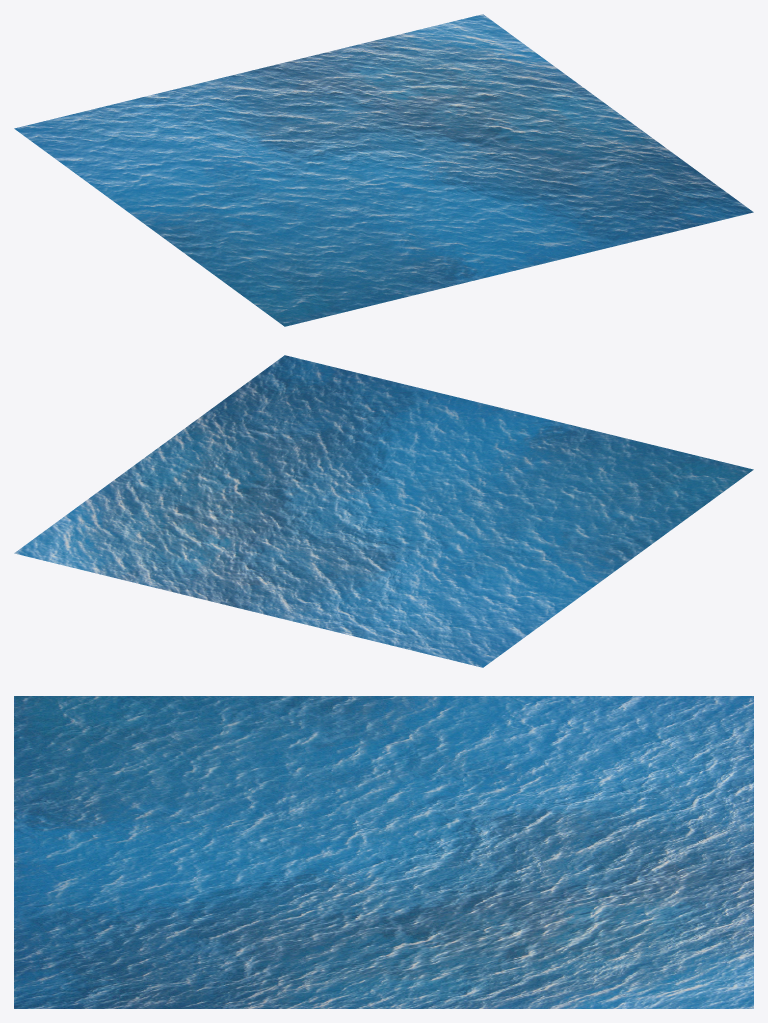
Rendered from water.obj.
3 views of the same model, one above another, from view 1: azimuth 30°, elevation 25°; view 2: azimuth 150°, elevation 25°; view 3: azimuth 270°, elevation 25° (orthographic). The views are drawn at different scales.
Visible parts, largest first — view 1: Plane001; view 2: Plane001; view 3: Plane001.
Part boxes in pixels (x1,y1,x2,y2): Plane001: (14,14,753,326); Plane001: (14,355,753,667); Plane001: (14,696,753,1008).
Size of the model in its own units: 50 by 0 by 50.
Materials: 1 (1 with a texture image).
